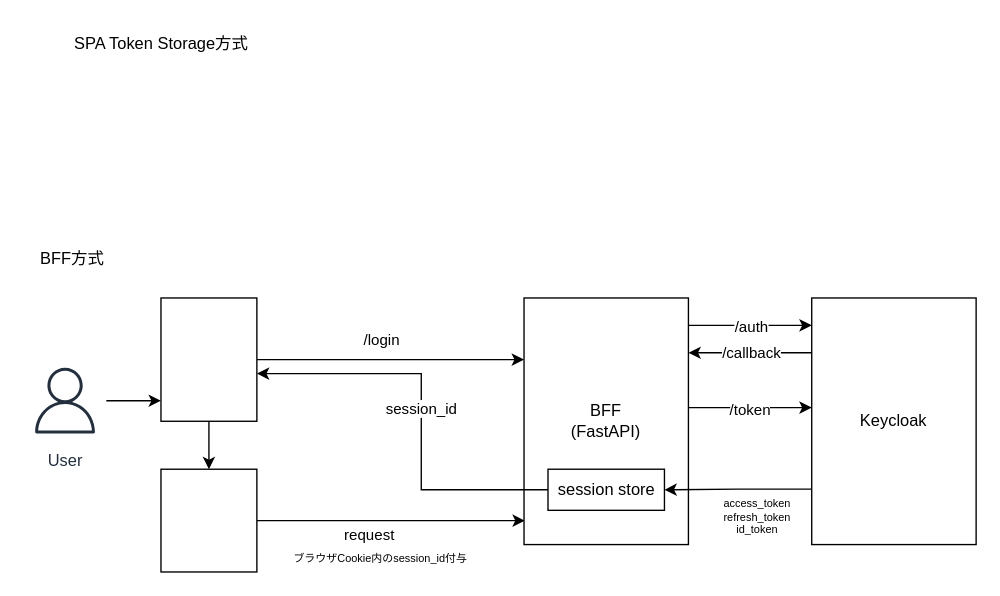
Image size: 1000x596. Some labels were removed from this diagram. Here are the shapes that lost their labels. From the top down, the centre of each, then its label:
At (208,359): "ブラウザ".
At (208,520): "Frontend (Vue.js)".
